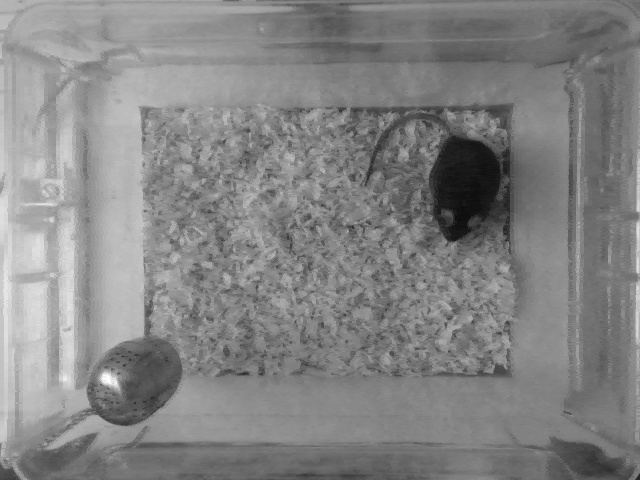mice: (363, 113, 508, 244)
